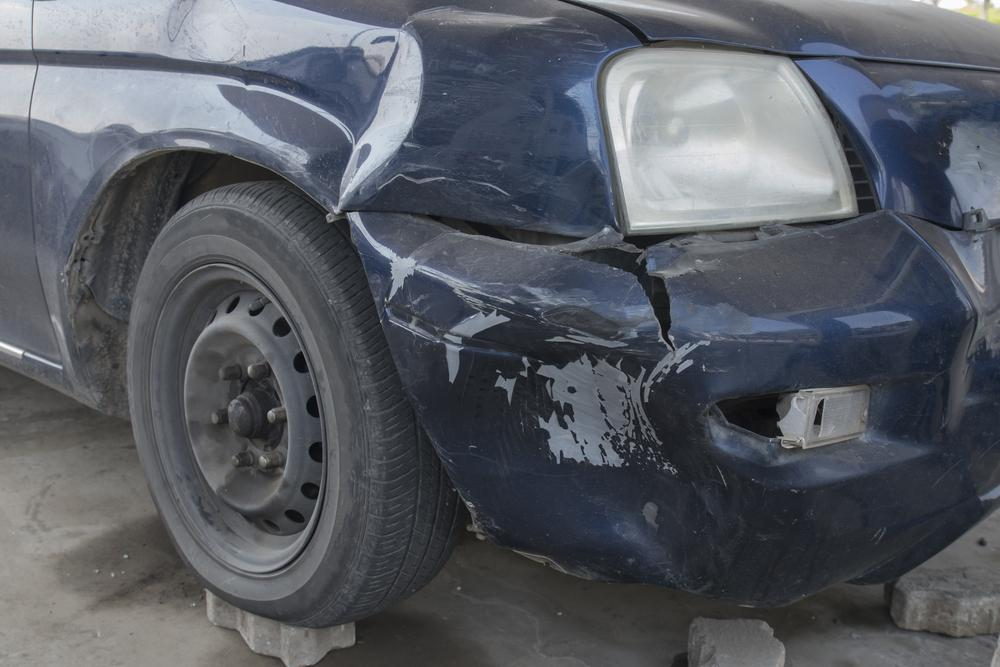crack: (563, 244, 678, 361)
dent: (422, 325, 739, 592), (220, 25, 427, 203), (874, 106, 999, 312)
